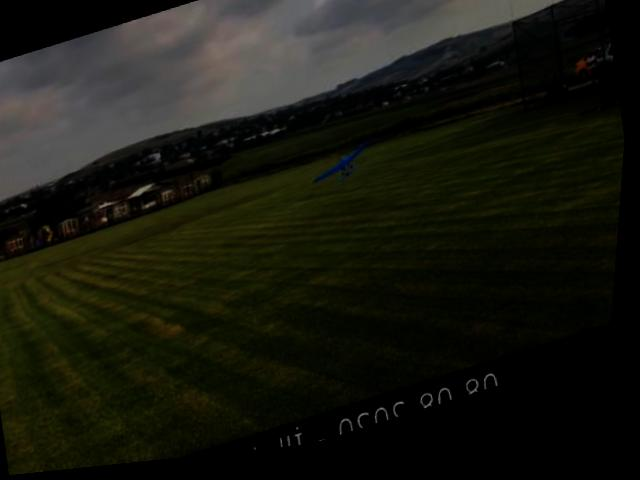uav: (303, 130, 391, 205)
